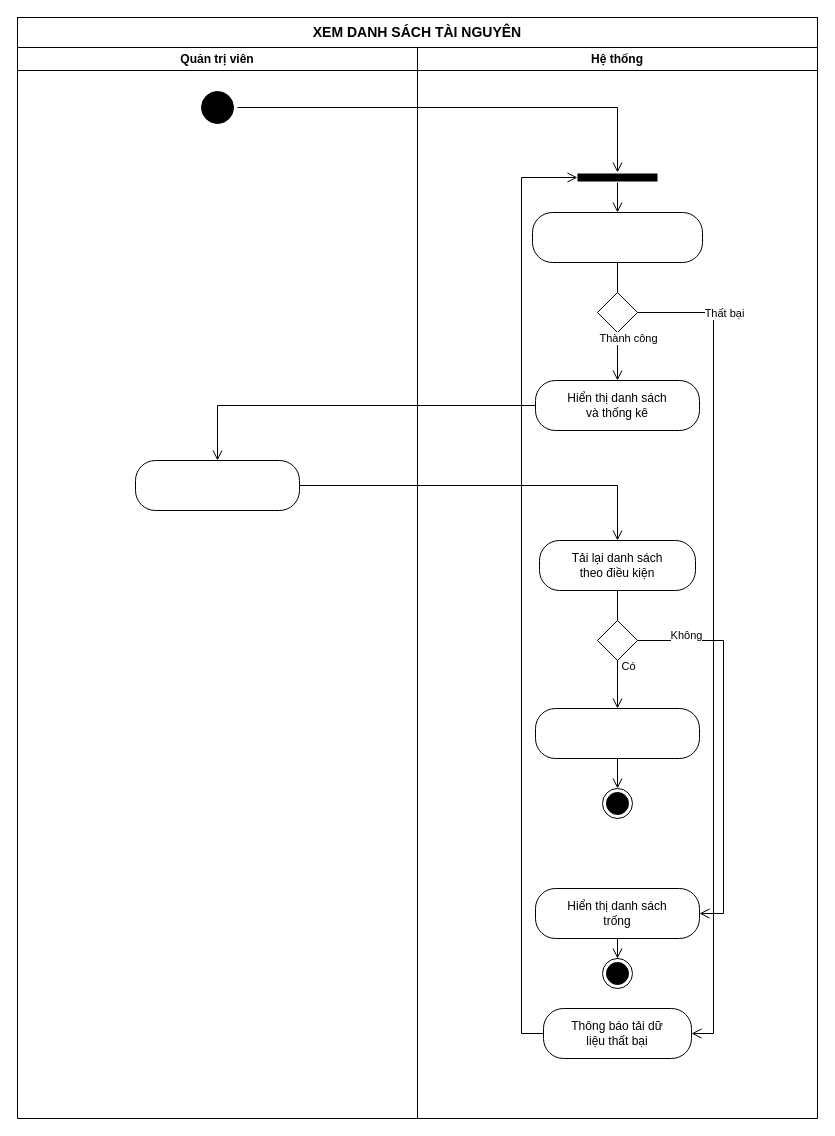
The diagram is 835 pixels wide and 1136 high, and some of its shapes have lost their labels. Here are the shapes that lost their labels. From the top down, the box of each, then its label:
(532, 212, 702, 262): Tải thống kê và danh sách tài nguyên
(134, 460, 300, 510): Nhập từ khóa, lọc, hoặc sắp xếp
(534, 708, 700, 758): Hiển thị danh sách cập nhật
